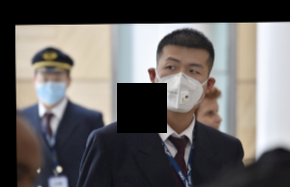with_mask: (153, 54, 209, 111), (33, 72, 67, 107)
